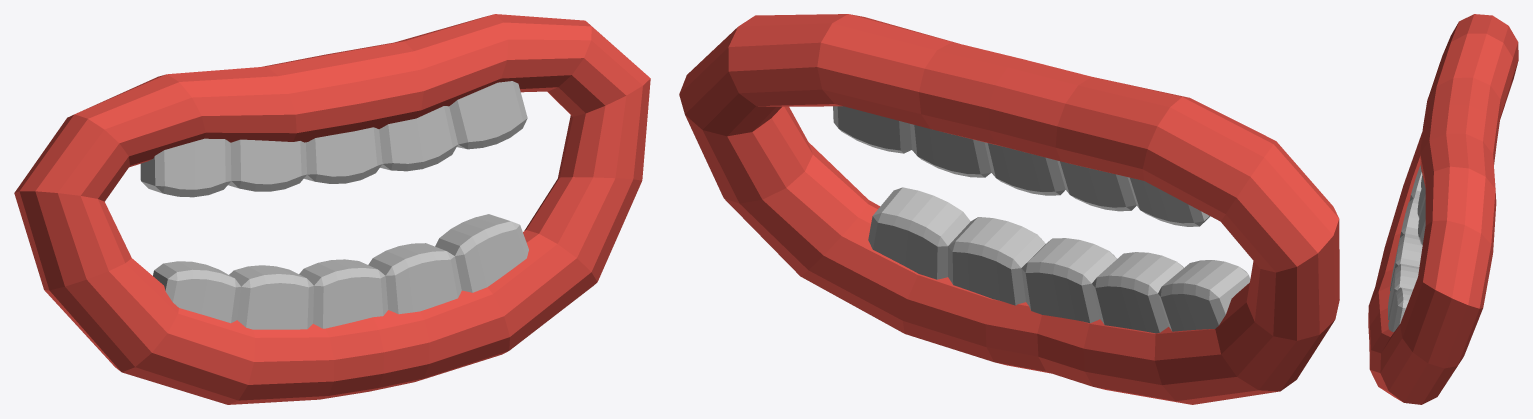
Rendered from Mouth.fbx.
3 views of the same model, side by side, from view 1: azimuth 30°, elevation 25°; view 2: azimuth 150°, elevation 25°; view 3: azimuth 270°, elevation 25° (orthographic). The views are drawn at different scales.
Parts seen in each view (by area): view 1: Mouth; view 2: Mouth; view 3: Mouth.
Part boxes in pixels (x1,y1,x2,y2): Mouth: (14,14,650,404); Mouth: (679,14,1339,404); Mouth: (1368,14,1518,404).
Bounding box in the file's own units: 325 × 161 × 85.22.
